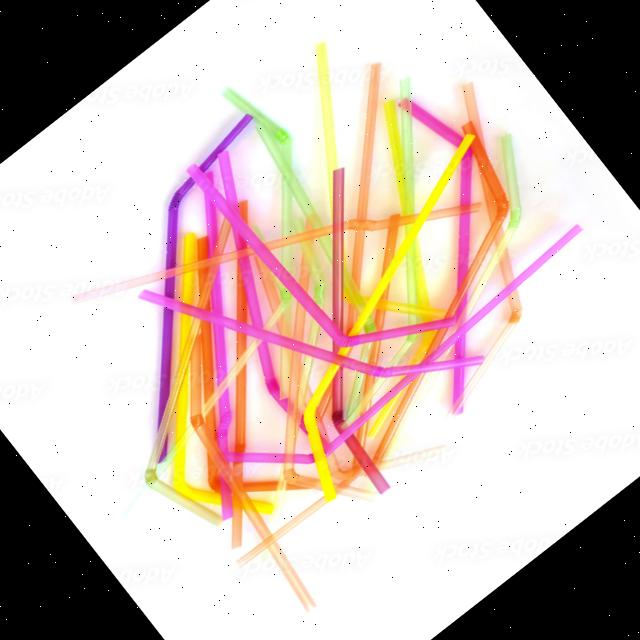plastic: (252, 368, 393, 511)
